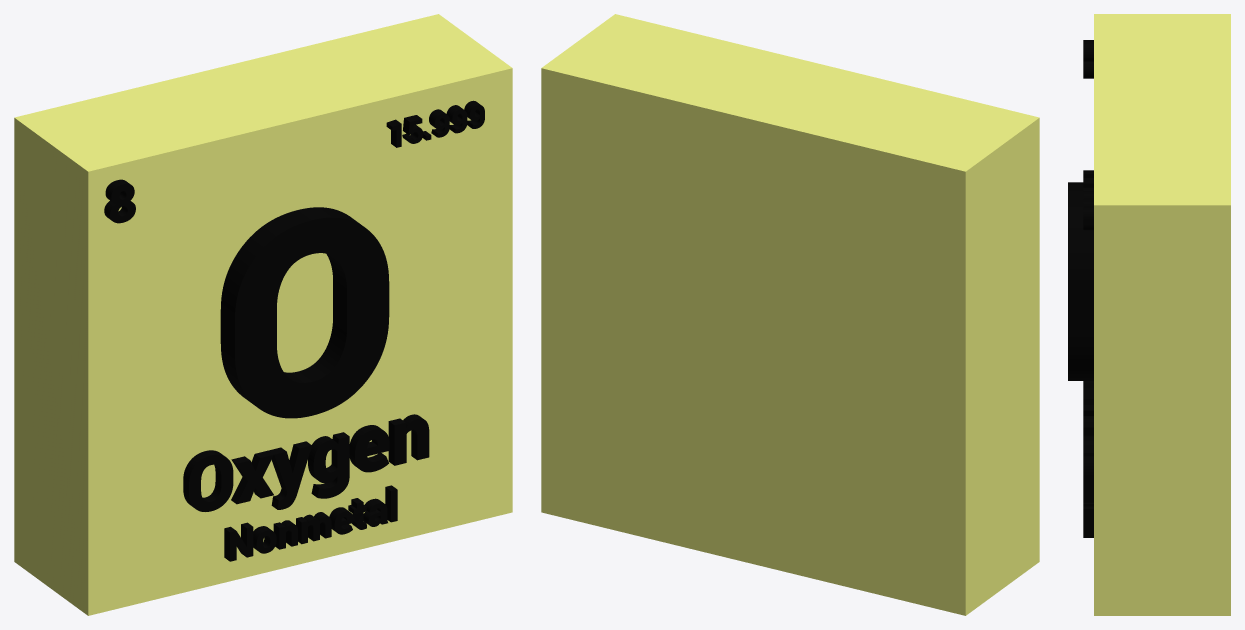
3 renders of one model, left to right at view 1: azimuth 30°, elevation 25°; view 2: azimuth 150°, elevation 25°; view 3: azimuth 270°, elevation 25°, orthographic. The views are drawn at different scales.
Visible parts, largest first — view 1: Cube, Text, Text.001, Text.002, Text.004, Text.003; view 2: Cube; view 3: Cube, Text, Text.001, Text.004, Text.003, Text.002.
Part boxes in pixels (box(x1,y1,x2,y2)): Cube: box(14, 14, 512, 615); Text: box(220, 207, 389, 418); Text.001: box(183, 414, 429, 511); Text.002: box(224, 485, 397, 561); Text.004: box(386, 100, 484, 147); Text.003: box(104, 179, 135, 223); Cube: box(541, 14, 1039, 615); Cube: box(1094, 14, 1230, 615); Text: box(1068, 182, 1093, 380); Text.001: box(1083, 381, 1093, 500); Text.004: box(1083, 170, 1093, 230); Text.003: box(1083, 40, 1093, 78); Text.002: box(1083, 501, 1093, 537).
Size of the model in its own units: 178 by 178 by 63.95.
